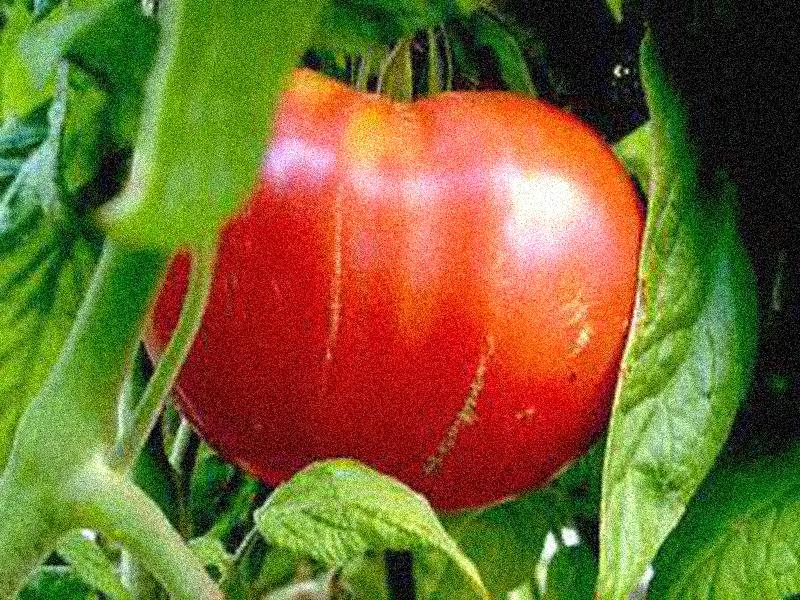Tomato: (144, 65, 649, 509)
